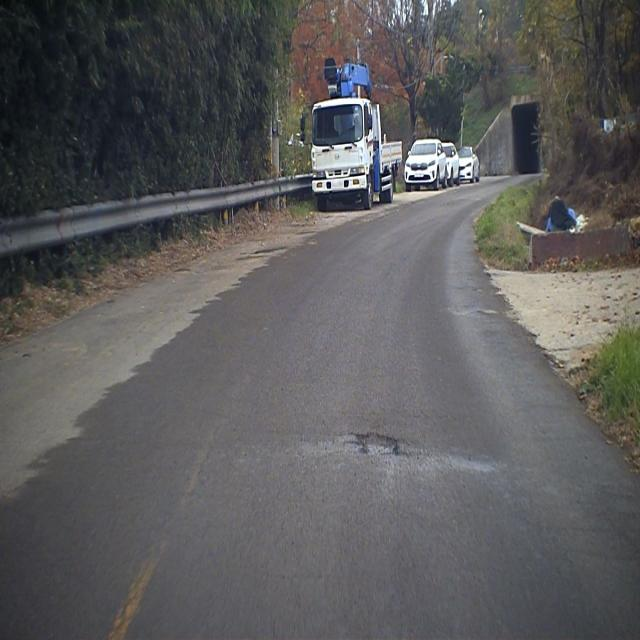Pothole: (335, 424, 420, 471)
